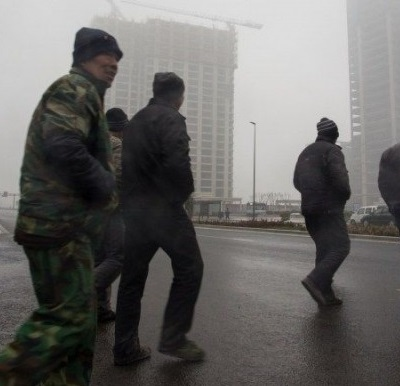person: (13, 26, 122, 386), (111, 67, 210, 368), (291, 116, 352, 313)
